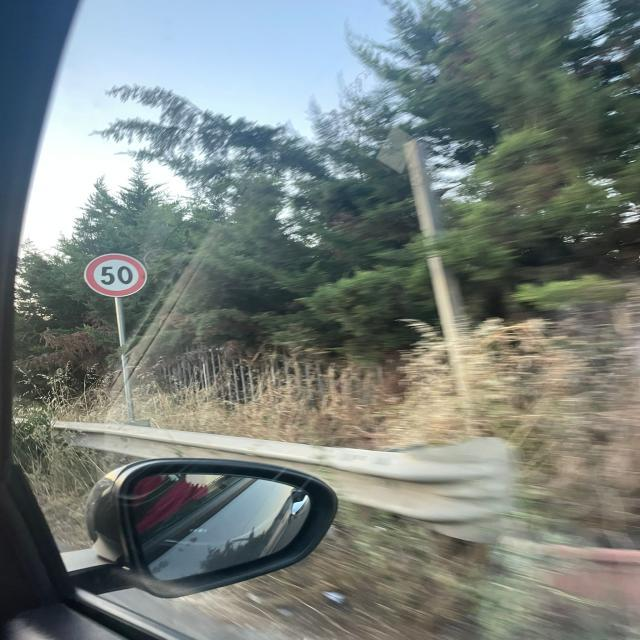forb_speed_over_50: (83, 253, 148, 297)
